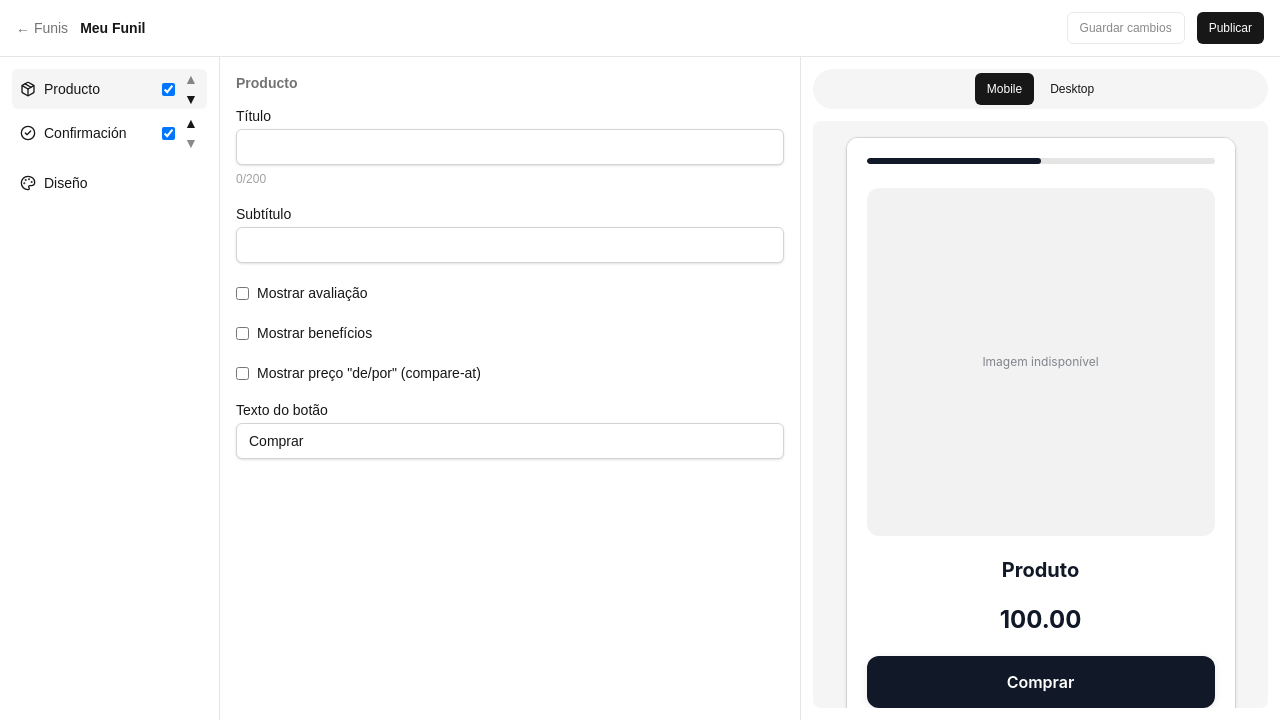
Test: FunnelBuilder › marca dirty ao editar um step e mostra 'Cambios sin guardar'
This screenshot has width=1280, height=720.
Type "!" into the field labelled "Texto do botão" at (510,441), box top-left (236, 423), bottom-right (784, 459)
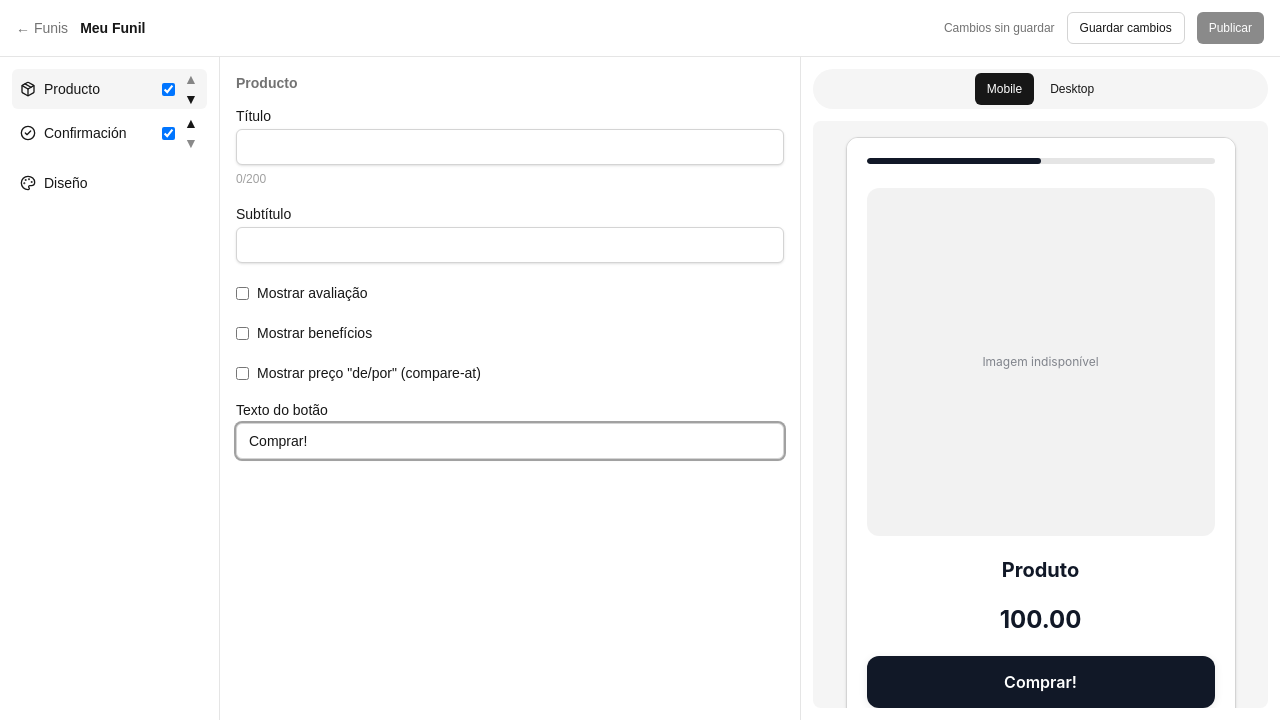
Expected: the text "Cambios sin guardar" is shown, top-left (944, 20), bottom-right (1055, 36)
